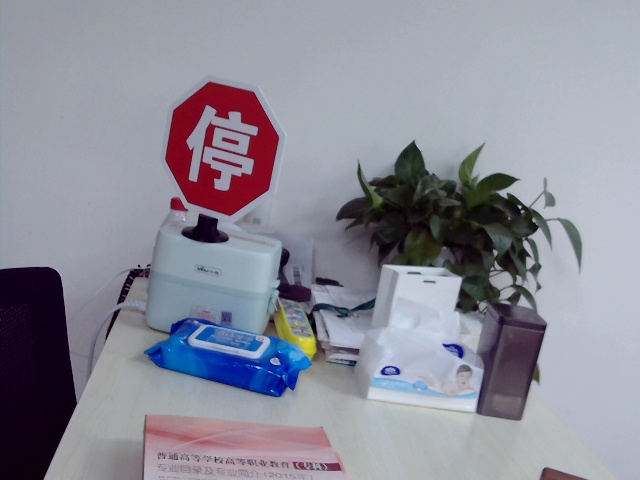stop: (184, 103, 255, 192)
